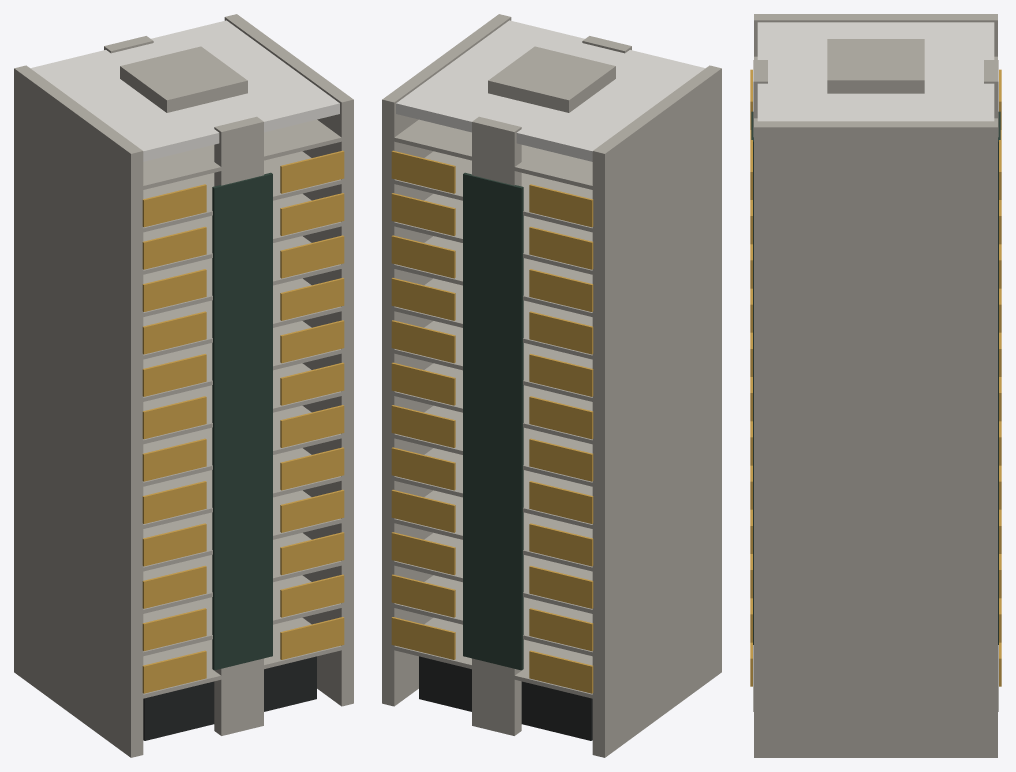
The model's file is prefeitura-piracicaba.glb.
3 views of the same model, side by side, from view 1: azimuth 30°, elevation 25°; view 2: azimuth 150°, elevation 25°; view 3: azimuth 270°, elevation 25° (orthographic). The views are drawn at different scales.
Parts seen in each view (by area): view 1: prefeitura_concrete, prefeitura_louver, prefeitura_glass, prefeitura_roof, prefeitura_dark; view 2: prefeitura_concrete, prefeitura_louver, prefeitura_glass, prefeitura_roof, prefeitura_dark; view 3: prefeitura_concrete, prefeitura_roof, prefeitura_louver, prefeitura_glass.
Part boxes in pixels (x1=…): prefeitura_concrete: x1=14, y1=14, x2=353, y2=757; prefeitura_louver: x1=142, y1=150, x2=344, y2=693; prefeitura_glass: x1=212, y1=172, x2=272, y2=670; prefeitura_roof: x1=30, y1=20, x2=339, y2=161; prefeitura_dark: x1=143, y1=656, x2=316, y2=740; prefeitura_concrete: x1=382, y1=14, x2=721, y2=757; prefeitura_louver: x1=391, y1=150, x2=593, y2=693; prefeitura_glass: x1=463, y1=172, x2=523, y2=670; prefeitura_roof: x1=396, y1=20, x2=705, y2=161; prefeitura_dark: x1=419, y1=656, x2=592, y2=740; prefeitura_concrete: x1=753, y1=14, x2=998, y2=757; prefeitura_roof: x1=757, y1=22, x2=994, y2=121; prefeitura_louver: x1=750, y1=69, x2=1001, y2=686; prefeitura_glass: x1=751, y1=111, x2=1000, y2=644.
Size of the model in its own units: 22 by 58 by 20.58.
